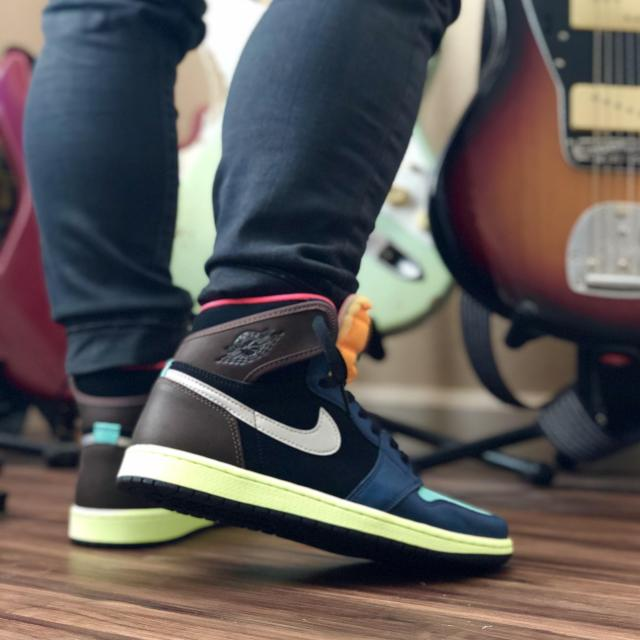shoe: (111, 287, 524, 582), (54, 345, 241, 564)
